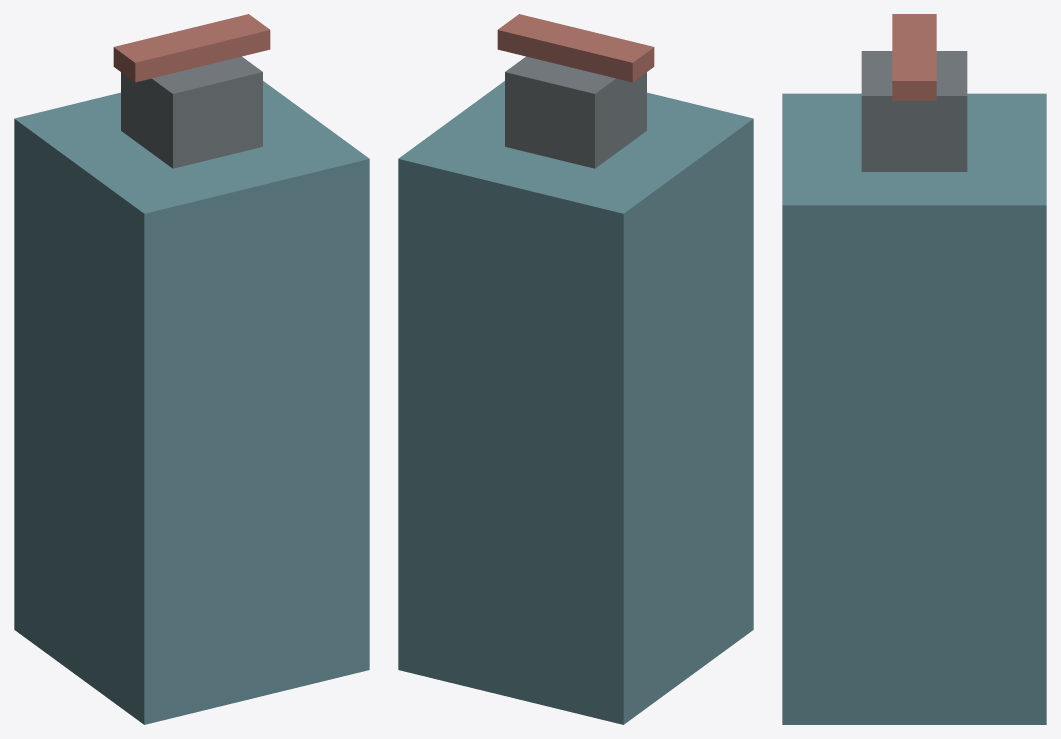
File: gas_cylinder.glb
The picture shows the model from 3 angles, left to right: view 1: azimuth 30°, elevation 25°; view 2: azimuth 150°, elevation 25°; view 3: azimuth 270°, elevation 25°; orthographic projection.
Visible parts, largest first — view 1: body; view 2: body; view 3: body.
Boxes of the visible parts, x1,y1,x2,y2 form: body: (14,14,369,724); body: (398,14,753,724); body: (782,14,1046,724).
Size of the model in its own units: 0.3 by 0.7775 by 0.3.
